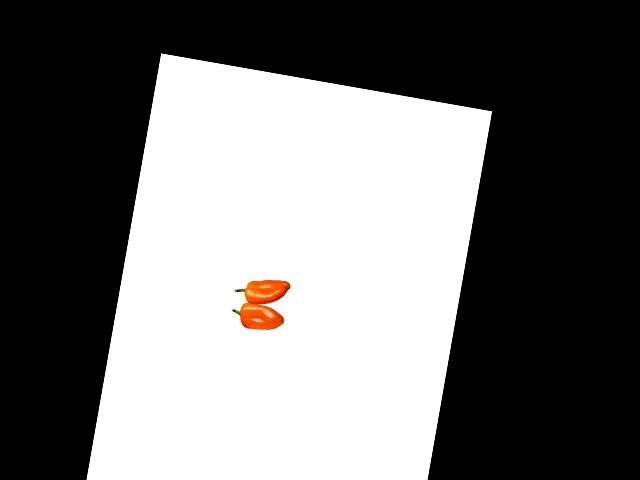bell_pepper: (227, 298, 297, 341)
